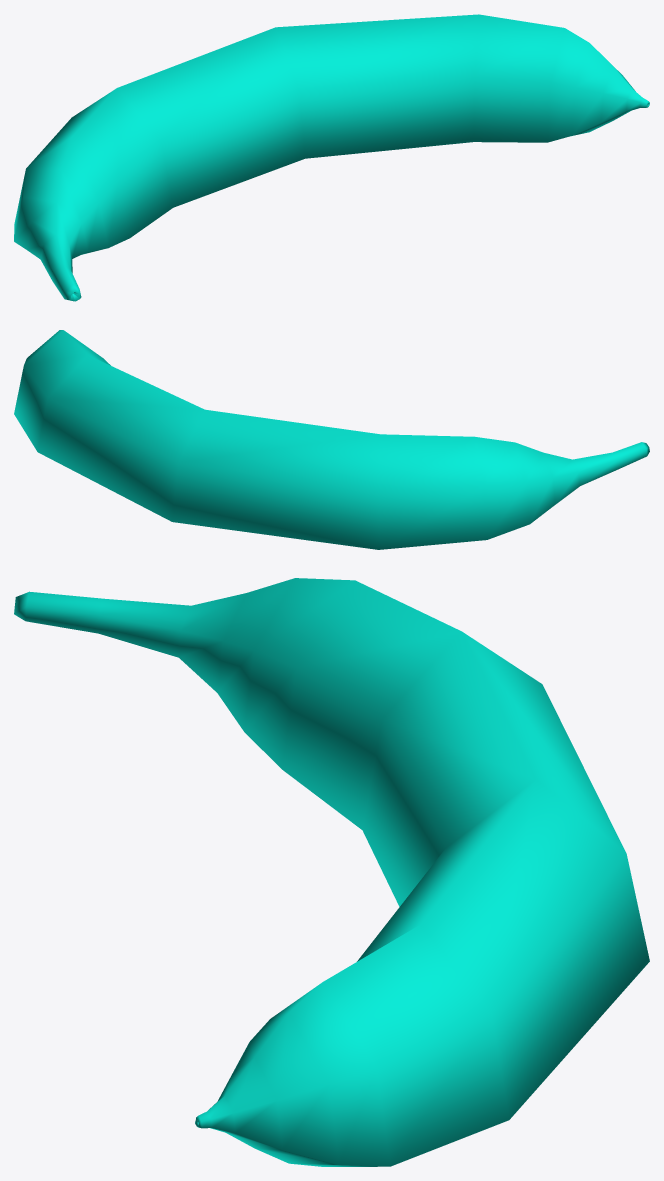
File: livingroom_Banana.fbx
The picture shows the model from 3 angles, top to bottom: view 1: azimuth 30°, elevation 25°; view 2: azimuth 150°, elevation 25°; view 3: azimuth 270°, elevation 25°; orthographic projection. The views are drawn at different scales.
Parts seen in each view (by area): view 1: LivingRoom_Banana001; view 2: LivingRoom_Banana001; view 3: LivingRoom_Banana001.
Part boxes in pixels (bbox=[...]): LivingRoom_Banana001: bbox=[14, 14, 649, 301]; LivingRoom_Banana001: bbox=[14, 330, 649, 549]; LivingRoom_Banana001: bbox=[14, 578, 649, 1166].
Bounding box in the file's own units: 1.64 × 0.3134 × 0.8428.
